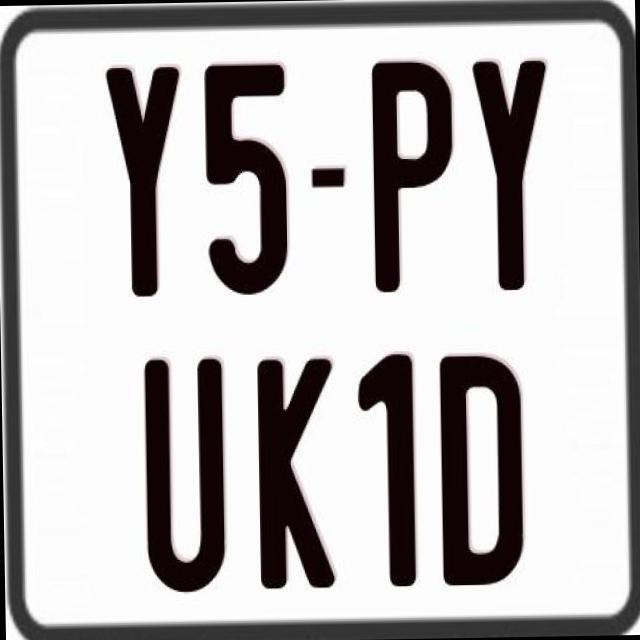1: (353, 352, 415, 592)
5: (202, 61, 288, 302)
D: (435, 352, 519, 585)
K: (253, 358, 339, 596)
P: (368, 58, 459, 290)
U: (143, 358, 233, 598)
Y: (104, 62, 186, 294), (470, 57, 546, 290)
